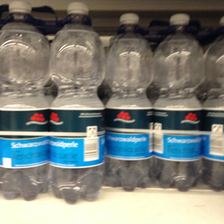water: (45, 1, 106, 207), (1, 1, 47, 201), (105, 8, 154, 192), (153, 11, 203, 191)
